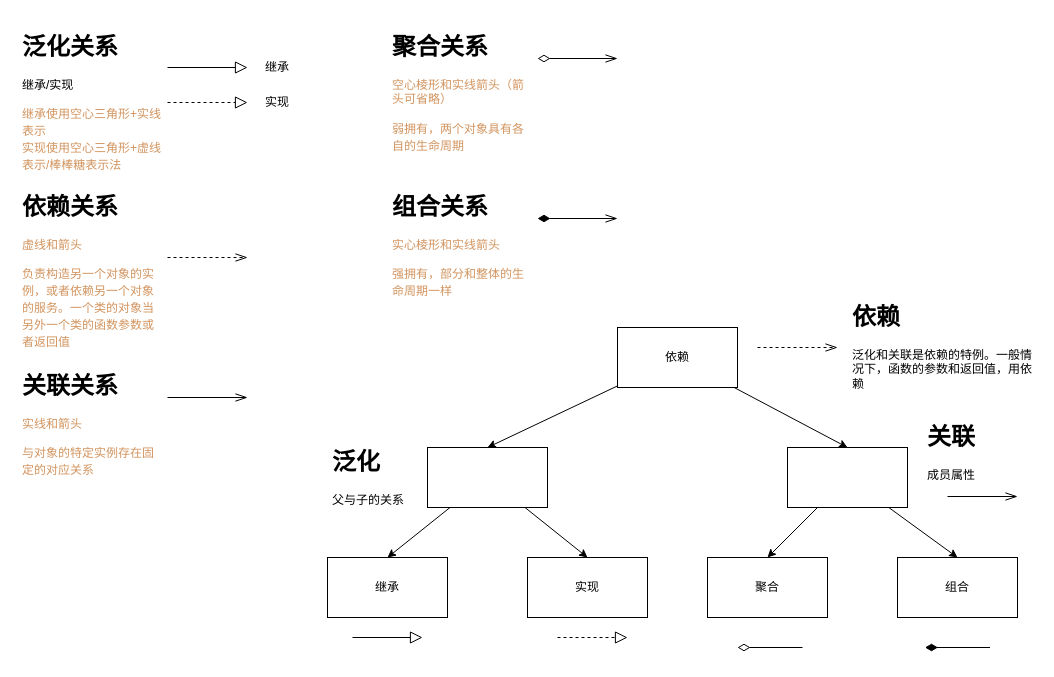
Image size: 1054x677. Some labels were removed from this diagram. Here are the shapes that lost their labels. From the top down, the centre of each, then its label:
the point at 487,477: 泛化
the point at 847,477: 关联
